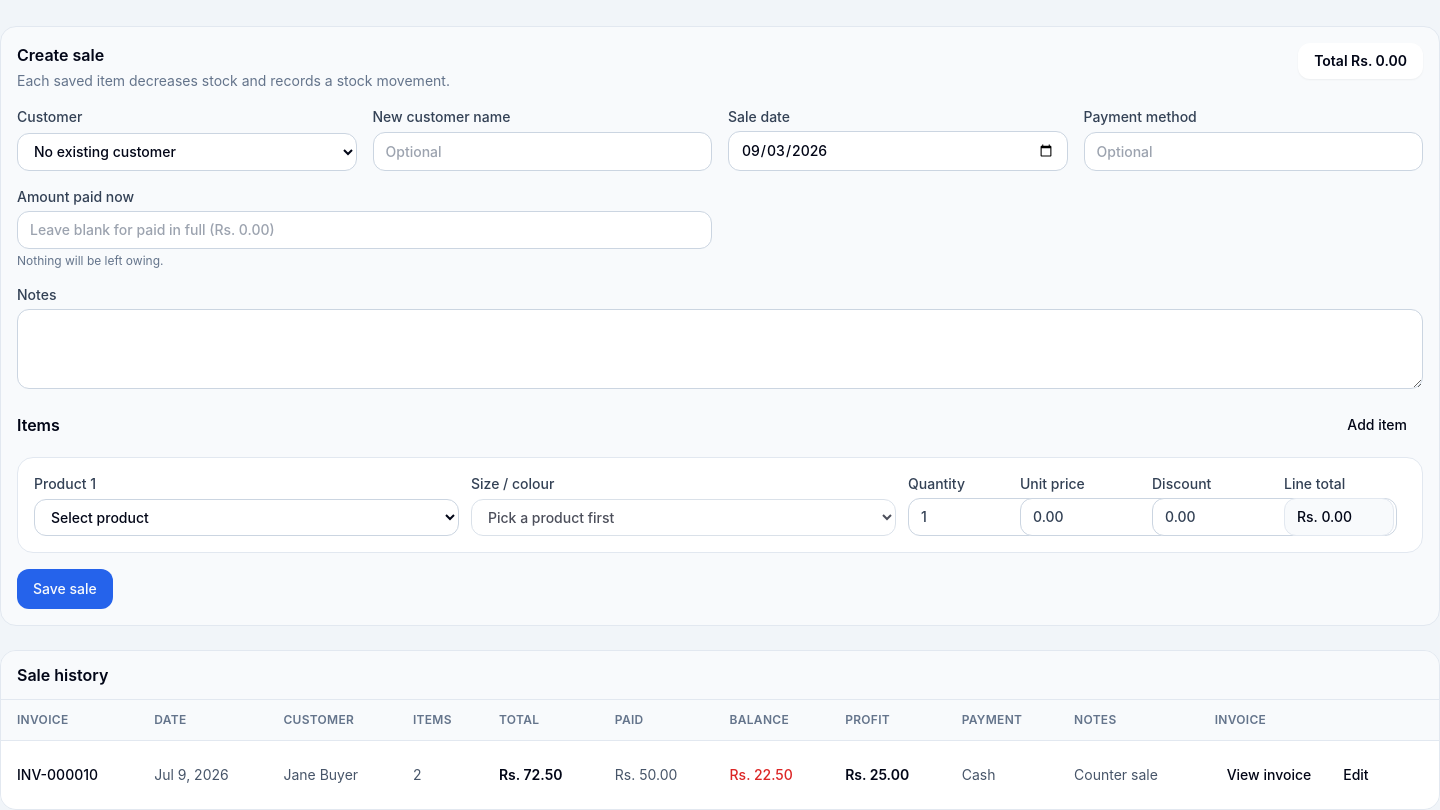
Test case: SalesScreen › asks for the edit password only when one is set
This screenshot has width=1440, height=810.
(page scrolled)
Expected: the text "INV-000010" is shown, 1,740 -> 138,809
Click the button "Edit" at {"x": 1356, "y": 775}, box 1331,757 -> 1381,793
(page scrolled)
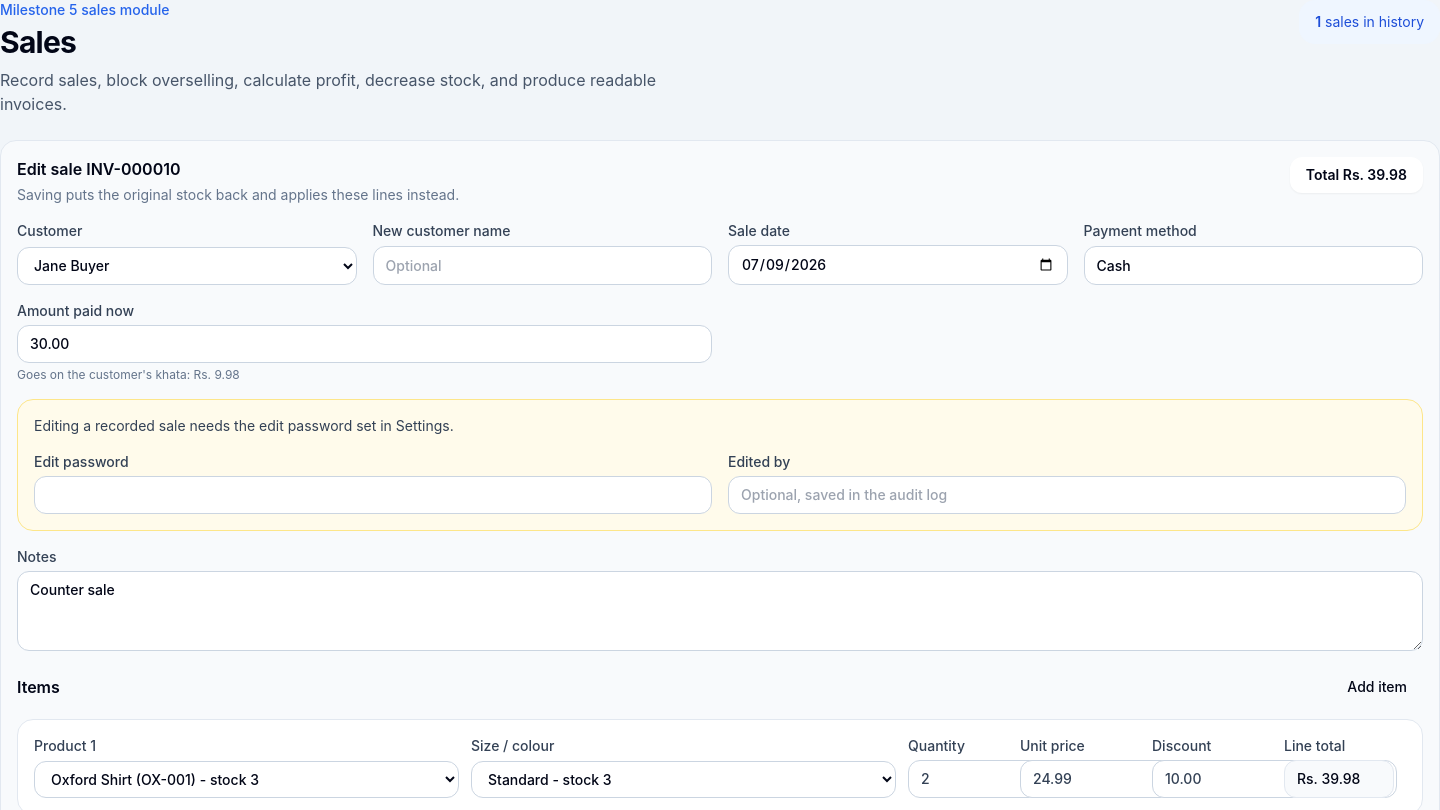
Expected: the password field labelled "Edit password" is shown, 34,476 -> 712,514
